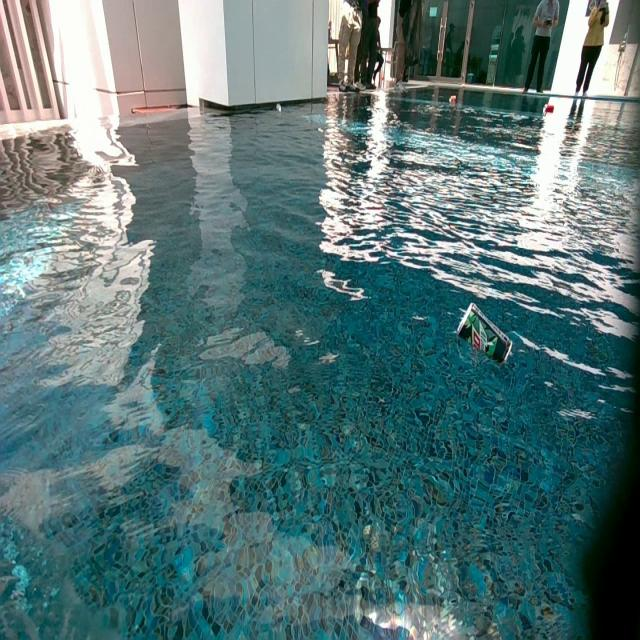Cans: (458, 302, 514, 368), (543, 102, 553, 114), (274, 102, 282, 113), (450, 96, 457, 105)
